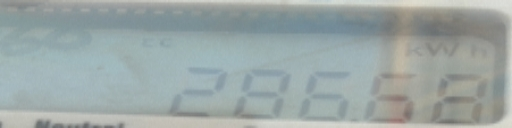2: (166, 53, 230, 121)
6: (348, 49, 420, 128), (287, 55, 350, 128)
8: (230, 53, 292, 128), (428, 58, 492, 128)
d: (346, 109, 362, 128)
